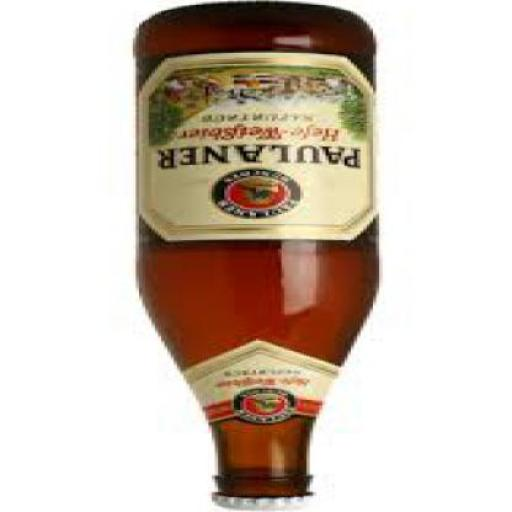glass: (139, 2, 385, 496)
metal: (218, 494, 316, 510)
